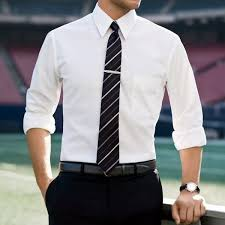F_belt: (56, 156, 161, 178)
F_shirt: (24, 3, 209, 164)
F_tie: (94, 18, 122, 179)
